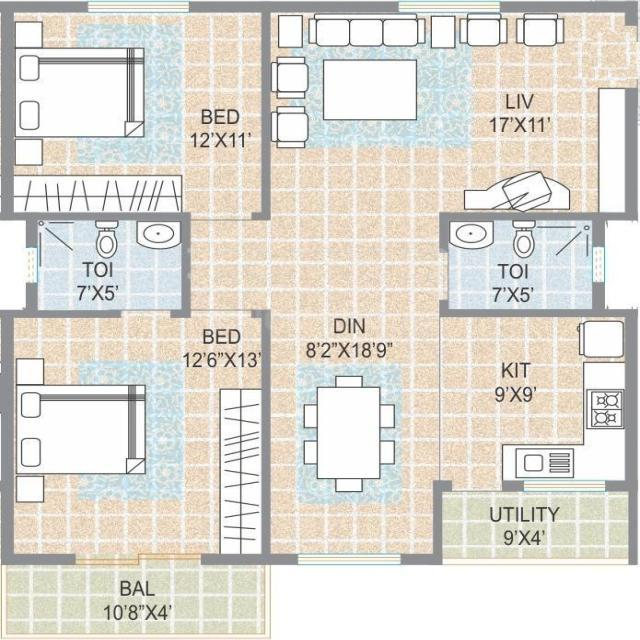Balcony-Sitout: (3, 561, 268, 636)
Bedroom: (10, 10, 265, 216)
Bedroom with Toilet: (9, 216, 266, 561)
Dining: (296, 363, 405, 501)
Enterance-Foyer: (568, 15, 640, 93)
Kitchen: (443, 313, 631, 483)
Living: (270, 10, 629, 216)
Toilet: (36, 218, 182, 311), (448, 221, 591, 310)
Utility: (440, 487, 633, 561)
